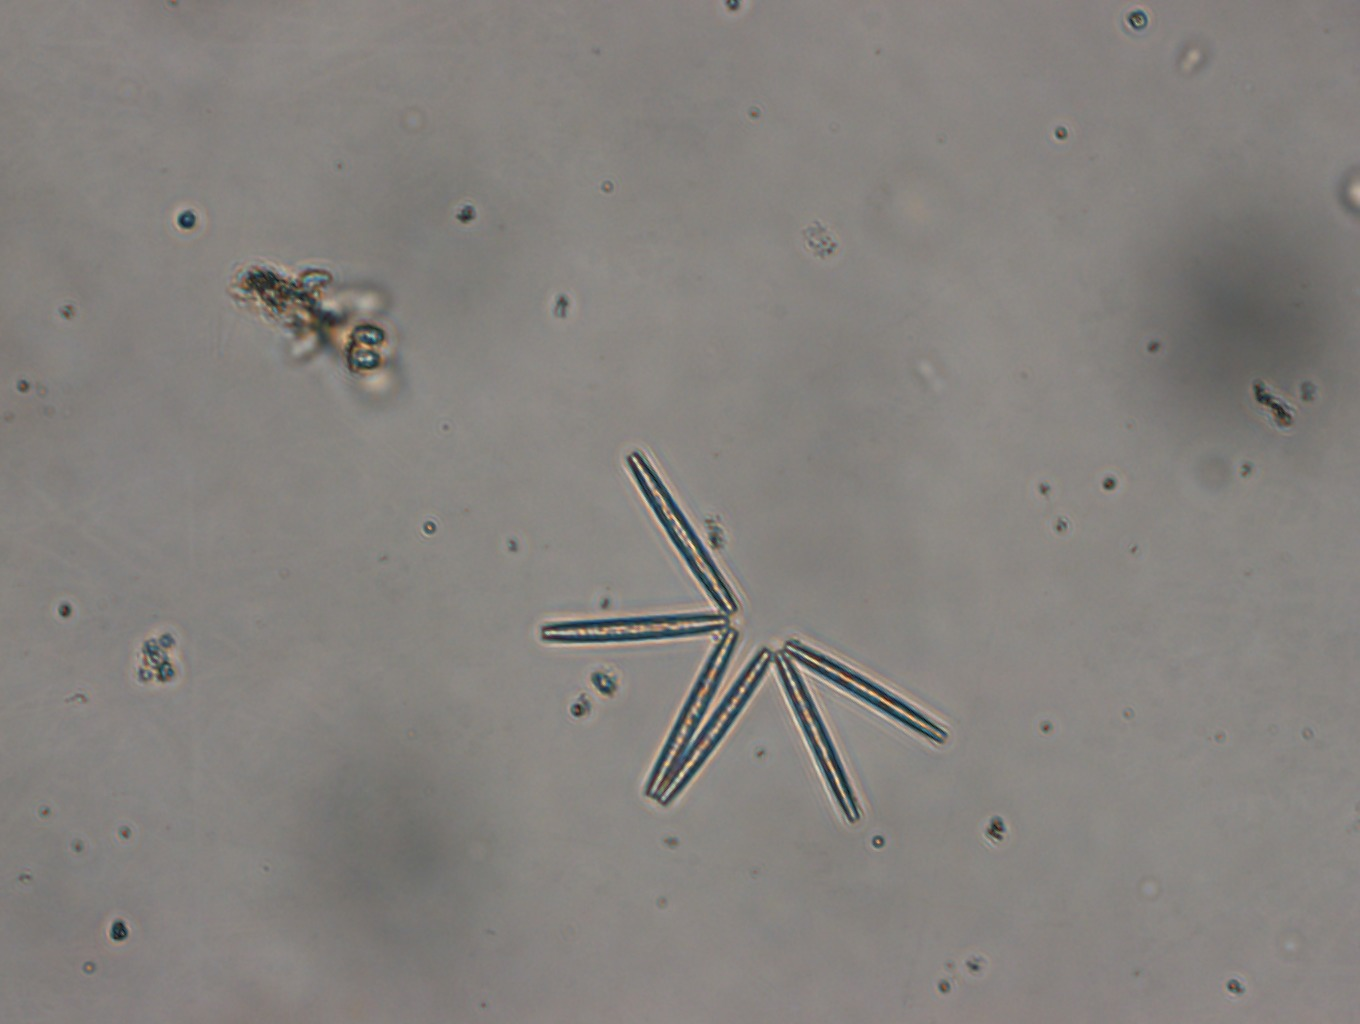thalassionema nitzschioides: (533, 444, 947, 827)
